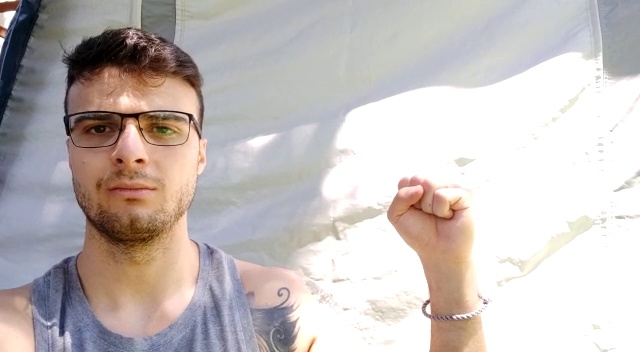Fist: (384, 174, 480, 267)
